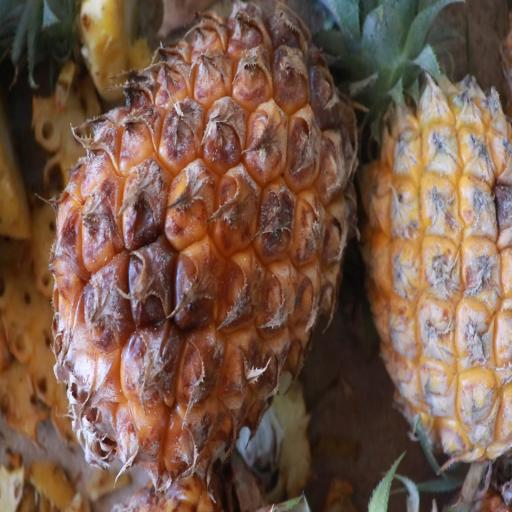Pineapple - v8 v1: (51, 0, 364, 488), (353, 2, 512, 480)
